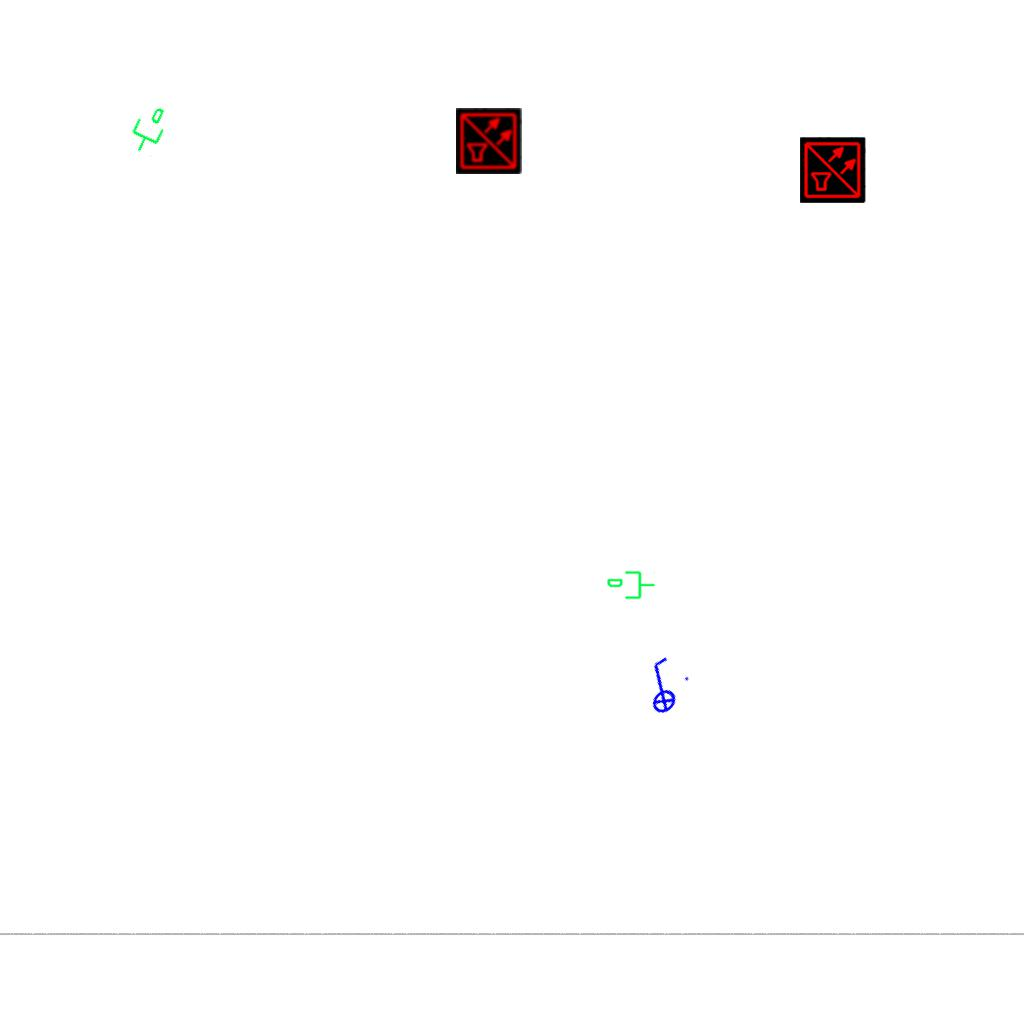Ausschalter_beleuchtet: (624, 649, 698, 723)
Datenanschluss_einfach: (122, 99, 174, 159), (606, 569, 656, 603)
OKW_Multisensormelder_(Kombination_optischer_Rauch-Kahlenmonoxid_Waerme-Melder): (800, 137, 866, 203), (456, 108, 522, 174)
